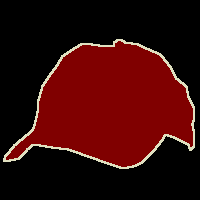hat: (3, 40, 194, 168)
